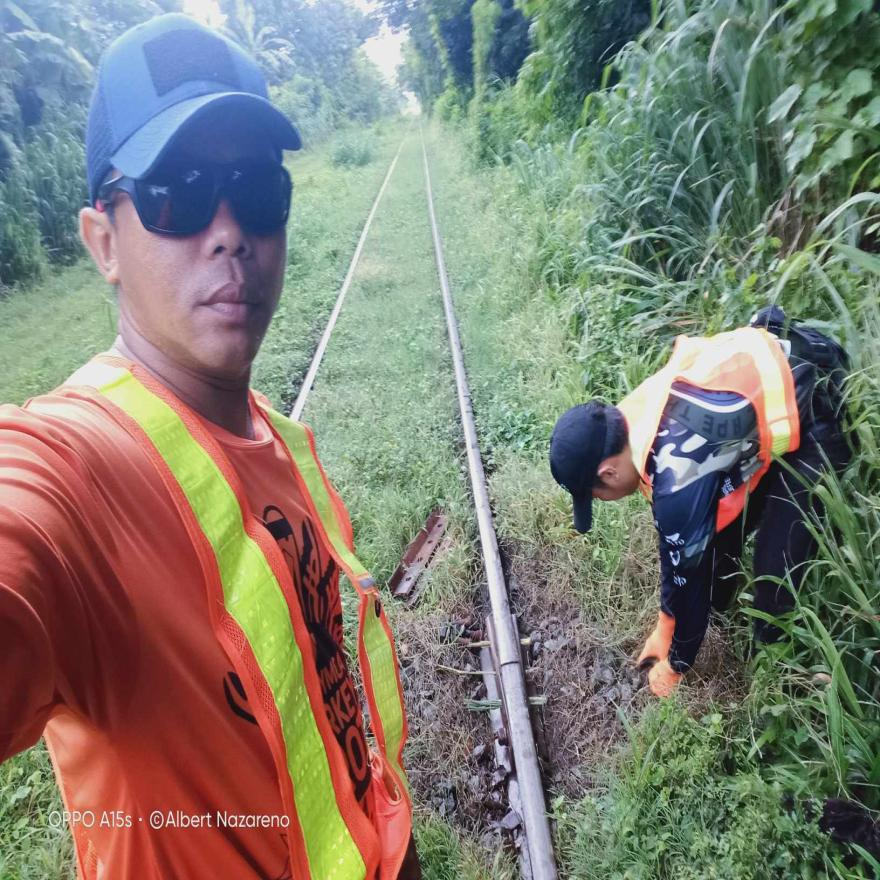railway-gap: (486, 630, 534, 694)
